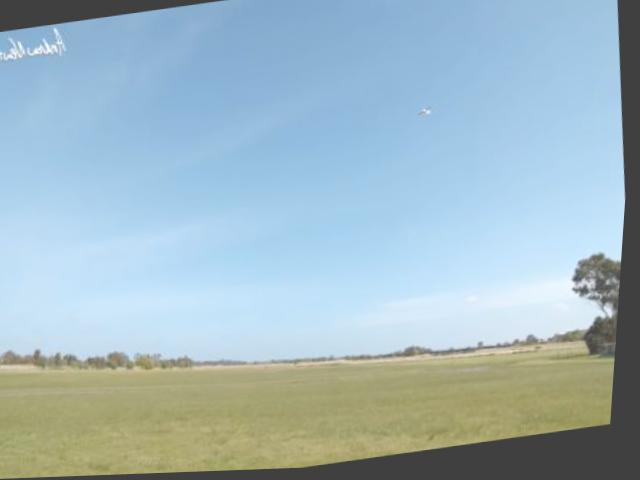uav: (416, 103, 441, 123)
